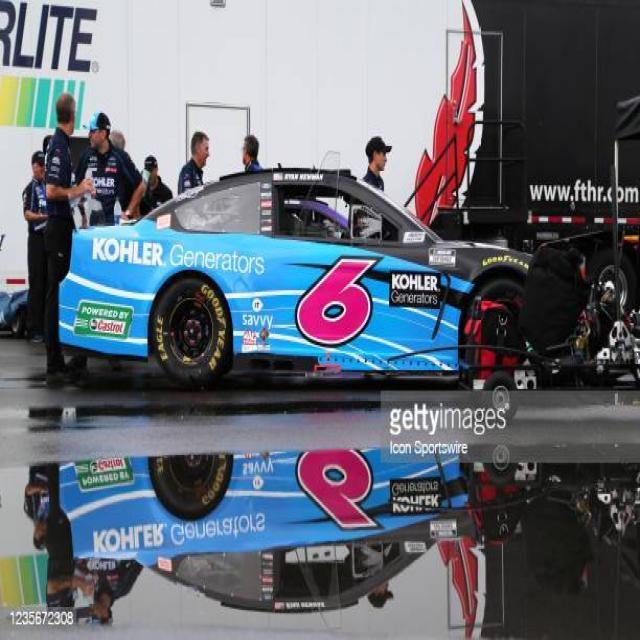Kohler: (93, 235, 163, 266), (391, 270, 439, 292)
